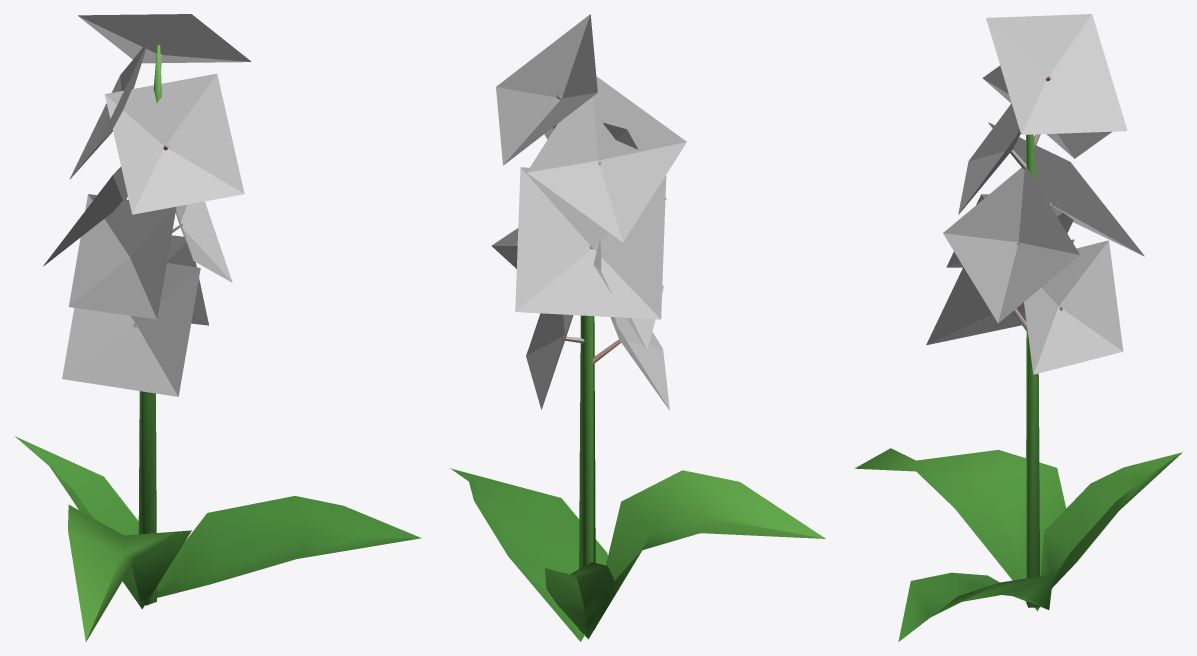
The model's file is Furniture_Vegetation_3.fbx.
3 renders of one model, left to right at view 1: azimuth 30°, elevation 25°; view 2: azimuth 150°, elevation 25°; view 3: azimuth 270°, elevation 25°, orthographic.
Parts seen in each view (by area): view 1: Furniture_Vegetation_3_1, Furniture_Vegetation_3; view 2: Furniture_Vegetation_3_1, Furniture_Vegetation_3; view 3: Furniture_Vegetation_3_1, Furniture_Vegetation_3.
Part boxes in pixels (left/top/right/bottom): Furniture_Vegetation_3_1: left=43, top=14, right=251, bottom=396; Furniture_Vegetation_3: left=14, top=44, right=421, bottom=641; Furniture_Vegetation_3_1: left=491, top=14, right=686, bottom=410; Furniture_Vegetation_3: left=450, top=94, right=825, bottom=641; Furniture_Vegetation_3_1: left=926, top=14, right=1144, bottom=374; Furniture_Vegetation_3: left=855, top=76, right=1182, bottom=641.
Bounding box in the file's own units: 63.8 × 104 × 51.03.
